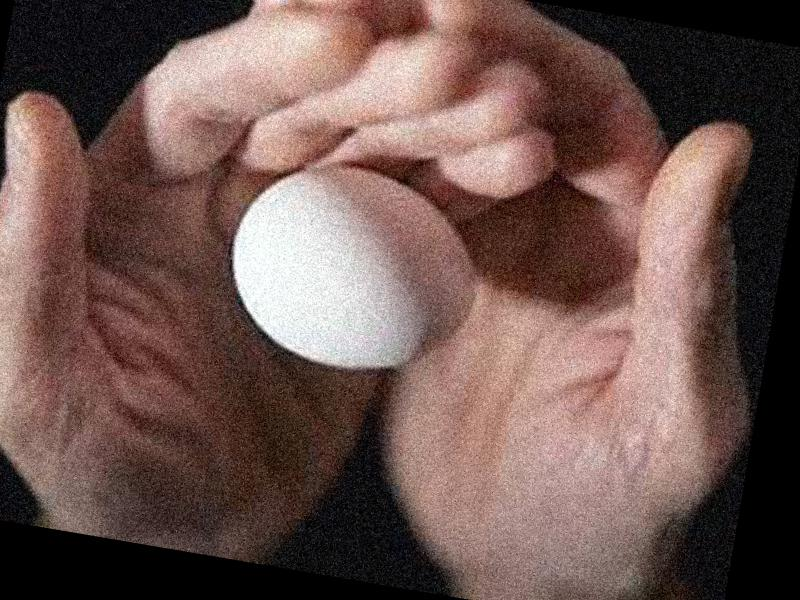Eggs: (215, 151, 489, 388)
